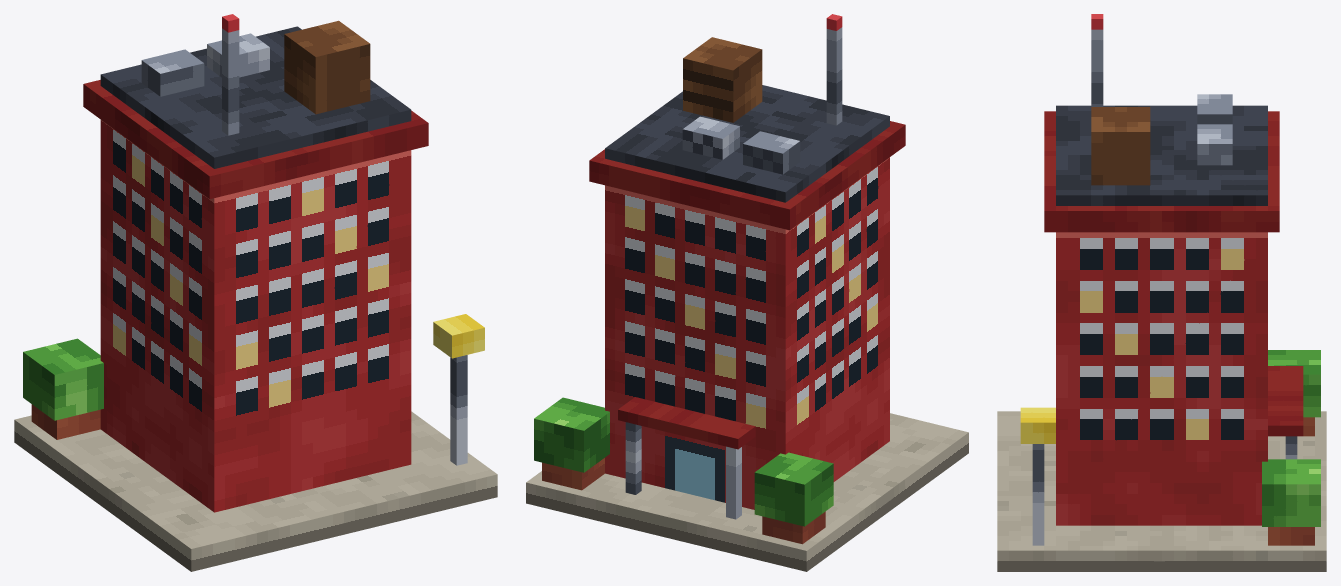
Rendered from city_red.glb.
The picture shows the model from 3 angles, left to right: view 1: azimuth 30°, elevation 25°; view 2: azimuth 150°, elevation 25°; view 3: azimuth 270°, elevation 25°; orthographic projection. The views are drawn at different scales.
Parts seen in each view (by area): view 1: body; view 2: body; view 3: body.
Boxes of the visible parts, left/top/right/bottom form: body: left=14, top=14, right=497, bottom=571; body: left=526, top=14, right=968, bottom=571; body: left=997, top=14, right=1326, bottom=571.
Size of the model in its own units: 0.875 by 1.34 by 0.875.
1 material, 1 textured.
